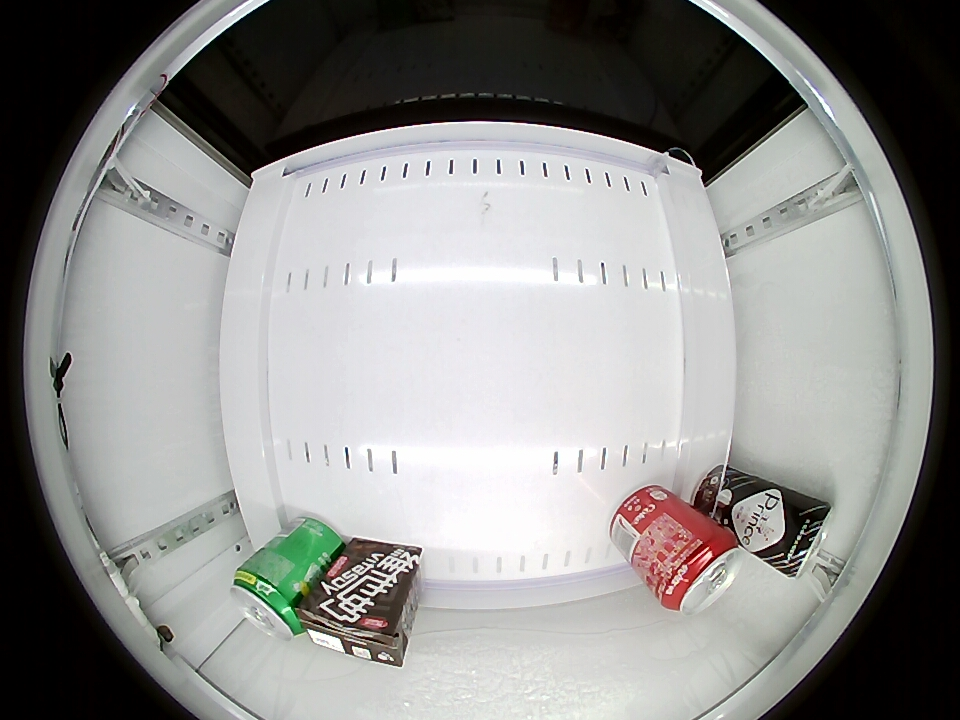kele: (656, 530, 741, 615)
qingdaowangzi-1: (774, 496, 833, 578)
weitanai2: (300, 589, 410, 667)
xuebi2: (231, 564, 307, 641)
